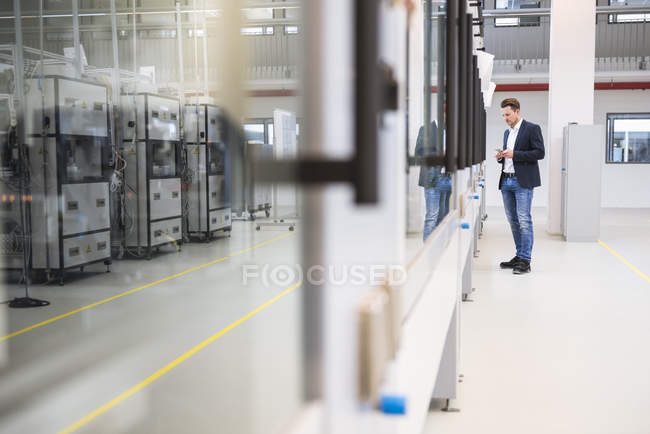person: (494, 98, 545, 274)
